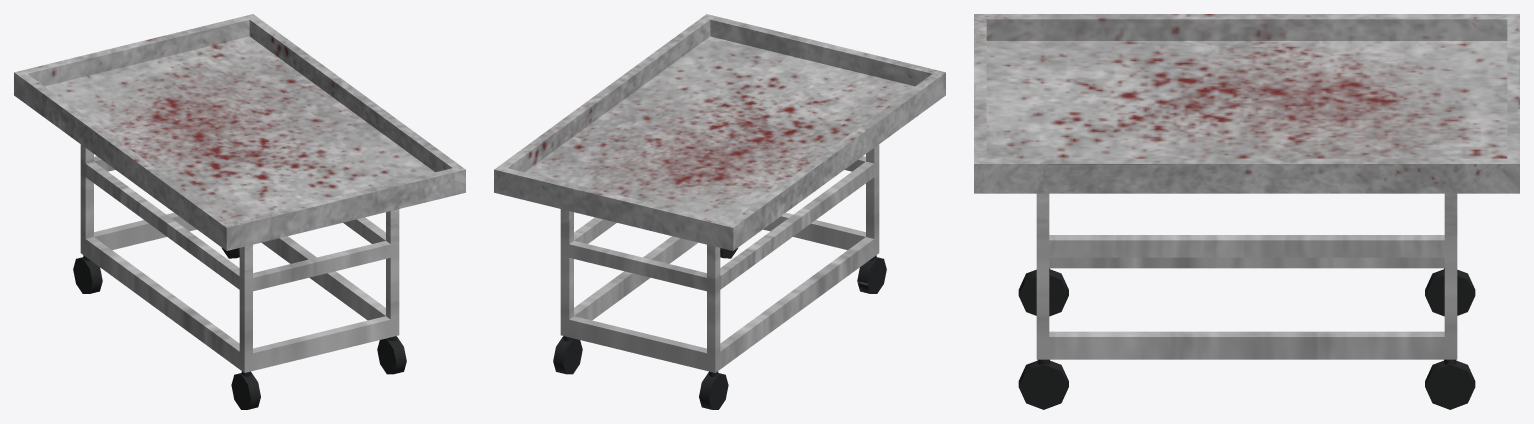
Rendered from Wheely-Table.glb.
3 renders of one model, left to right at view 1: azimuth 30°, elevation 25°; view 2: azimuth 150°, elevation 25°; view 3: azimuth 270°, elevation 25°, orthographic. The views are drawn at different scales.
Parts seen in each view (by area): view 1: 1_wheelTable.001; view 2: 1_wheelTable.001; view 3: 1_wheelTable.001.
Boxes of the visible parts, x1,y1,x2,y2 form: 1_wheelTable.001: (14, 14, 465, 409); 1_wheelTable.001: (494, 14, 945, 409); 1_wheelTable.001: (974, 14, 1519, 409).
Bounding box in the file's own units: 5.66 × 4.79 × 8.71.
Materials: 1 (1 with a texture image).
